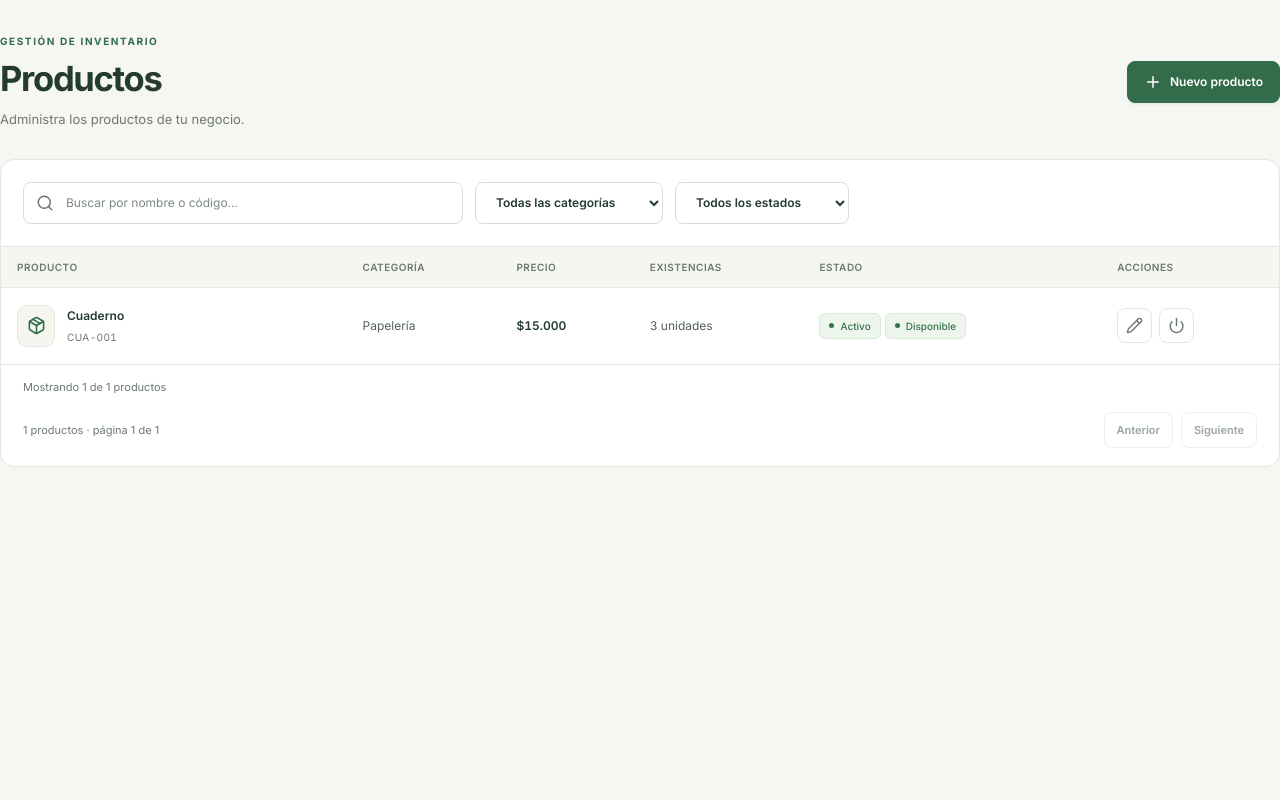
Test: edita el nombre conservando el código visible y fuera de la petición
Click the button named "Editar Cuaderno".
click(1135, 326)  # box [1117,308,1152,343]
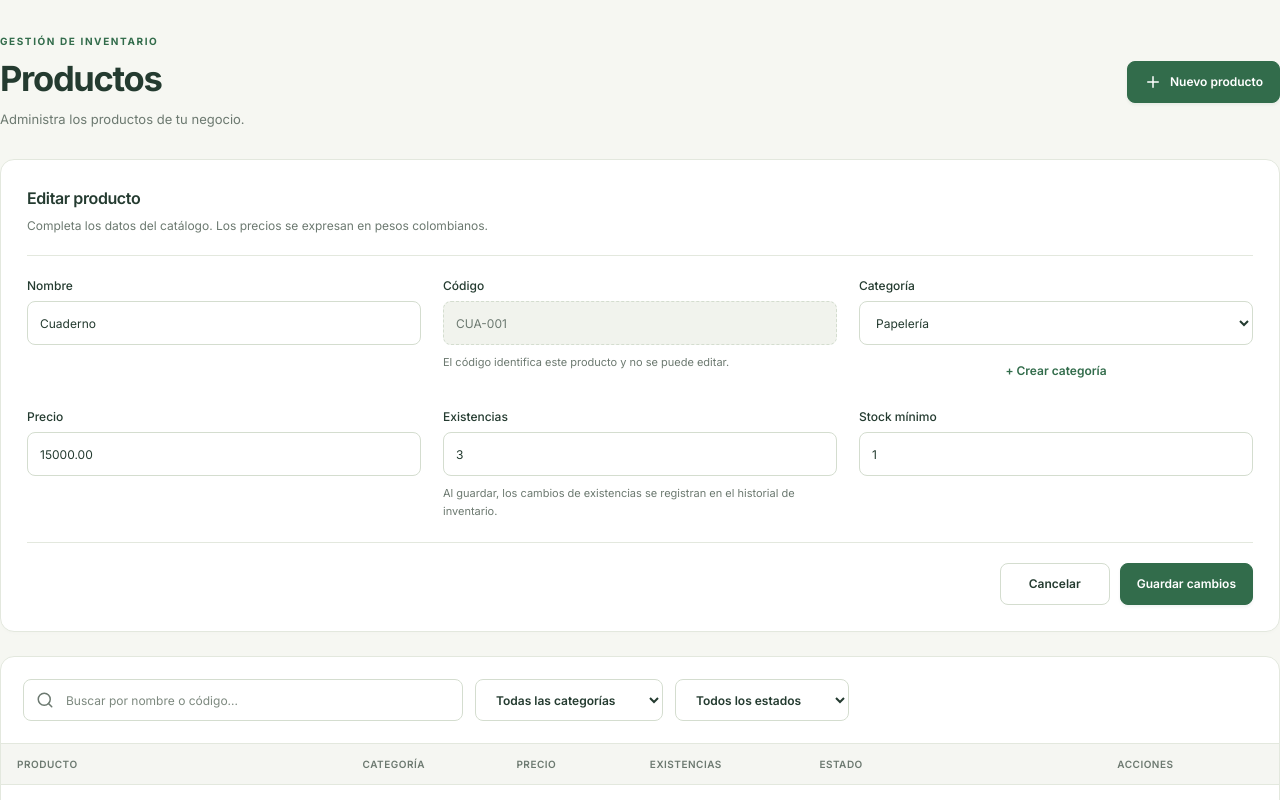
Now the field labelled "Código" holds "CUA-001", box [443,301,837,345]
Replace the text in the field labelled "Nombre" with "Cuaderno grande" at (224, 323), box [27,301,421,345]
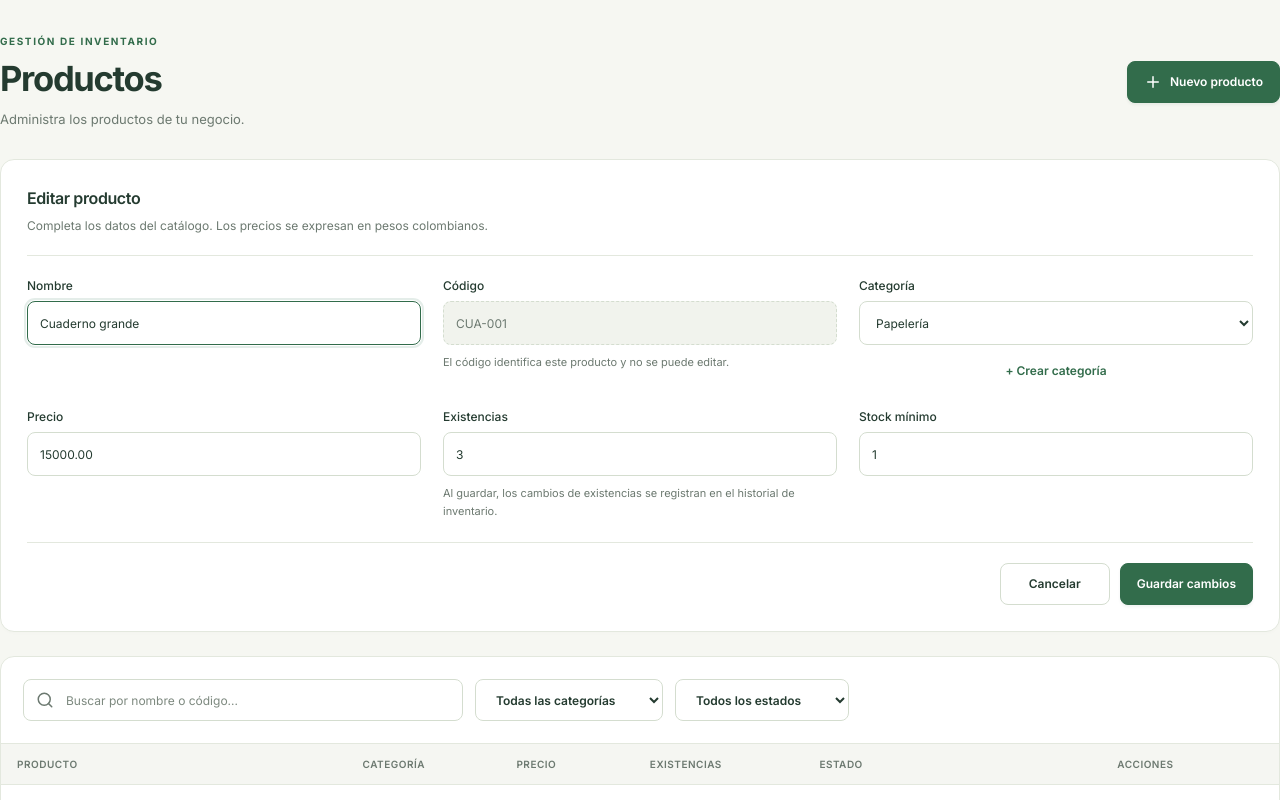
Click the button "Guardar cambios".
click(1186, 584)  # box [1120,563,1253,605]
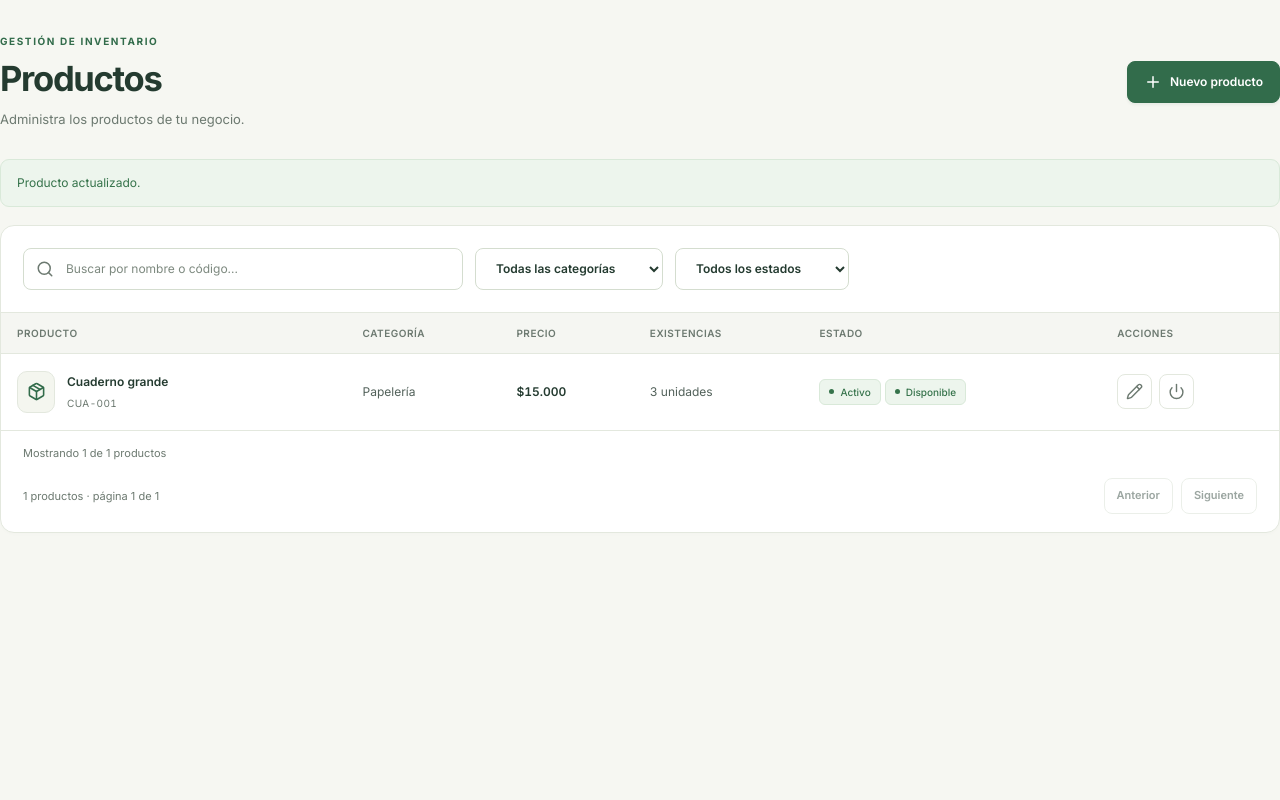
Now the message reads "Producto actualizado.", box [17,175,140,190]
Now the text "Cuaderno grande" is shown, box [67,373,168,391]
